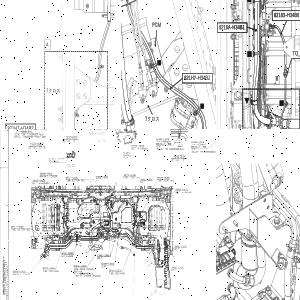PartNumber: (184, 76, 212, 82), (218, 24, 245, 30), (274, 12, 300, 18), (7, 125, 34, 129), (32, 179, 46, 182), (39, 172, 52, 175), (96, 175, 109, 178), (11, 225, 24, 228), (13, 270, 26, 273), (61, 252, 74, 255), (97, 254, 110, 257), (101, 262, 114, 265), (109, 269, 122, 272), (175, 188, 188, 191), (131, 144, 144, 147), (156, 138, 169, 141), (174, 245, 187, 248), (171, 266, 184, 269), (66, 176, 78, 179), (42, 267, 56, 269), (73, 265, 87, 267), (140, 178, 153, 180), (157, 176, 170, 178), (191, 141, 204, 143), (124, 174, 136, 176)
